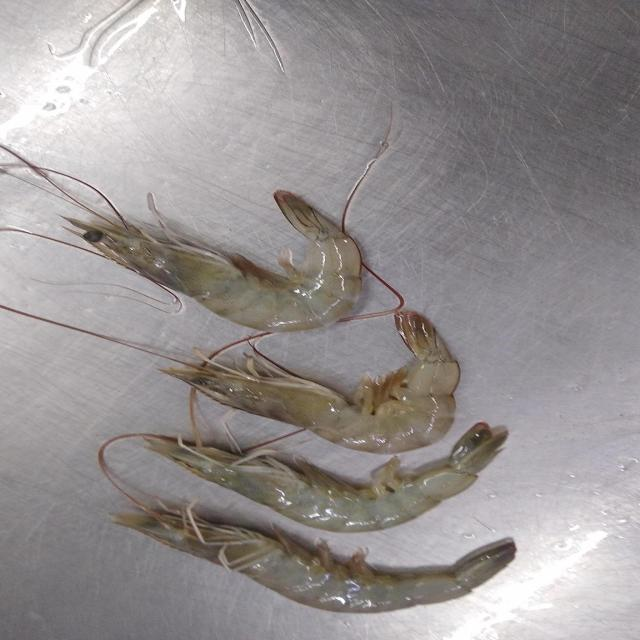shrimp: (111, 504, 516, 612), (162, 311, 460, 454), (67, 191, 362, 332), (142, 422, 507, 532)
